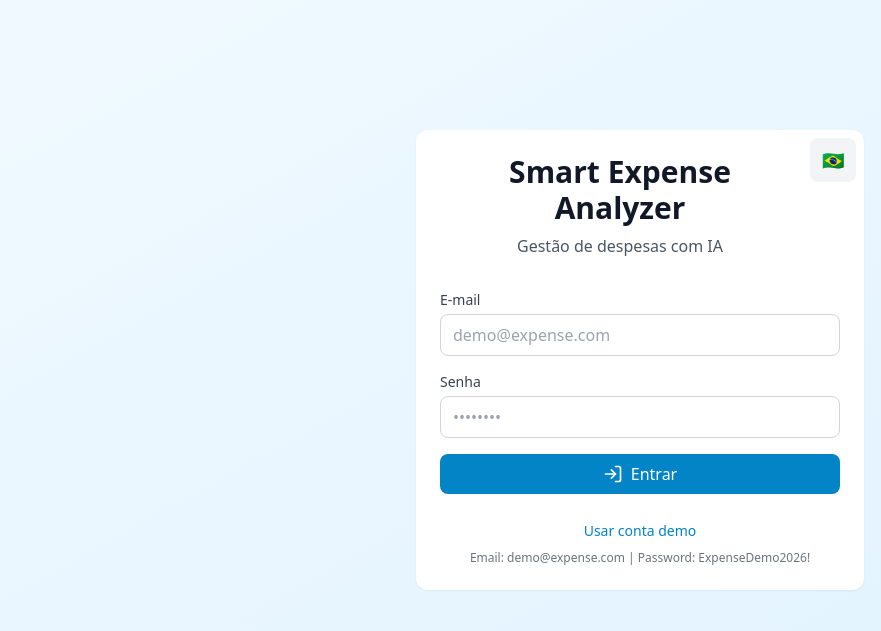
it: Authentication Flow › should show validation errors for empty fields
Click the submit button at (640,474), box [440,454,840,494]
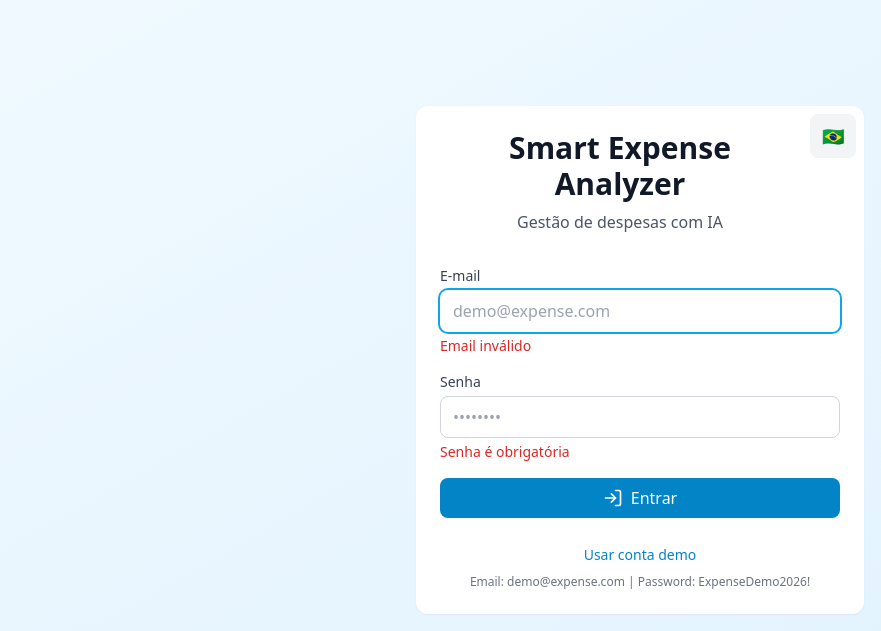
Result: the text "Email inválido" is shown at [440,336,531,355]
Result: the text "Senha é obrigatória" is shown at [440,442,570,461]
